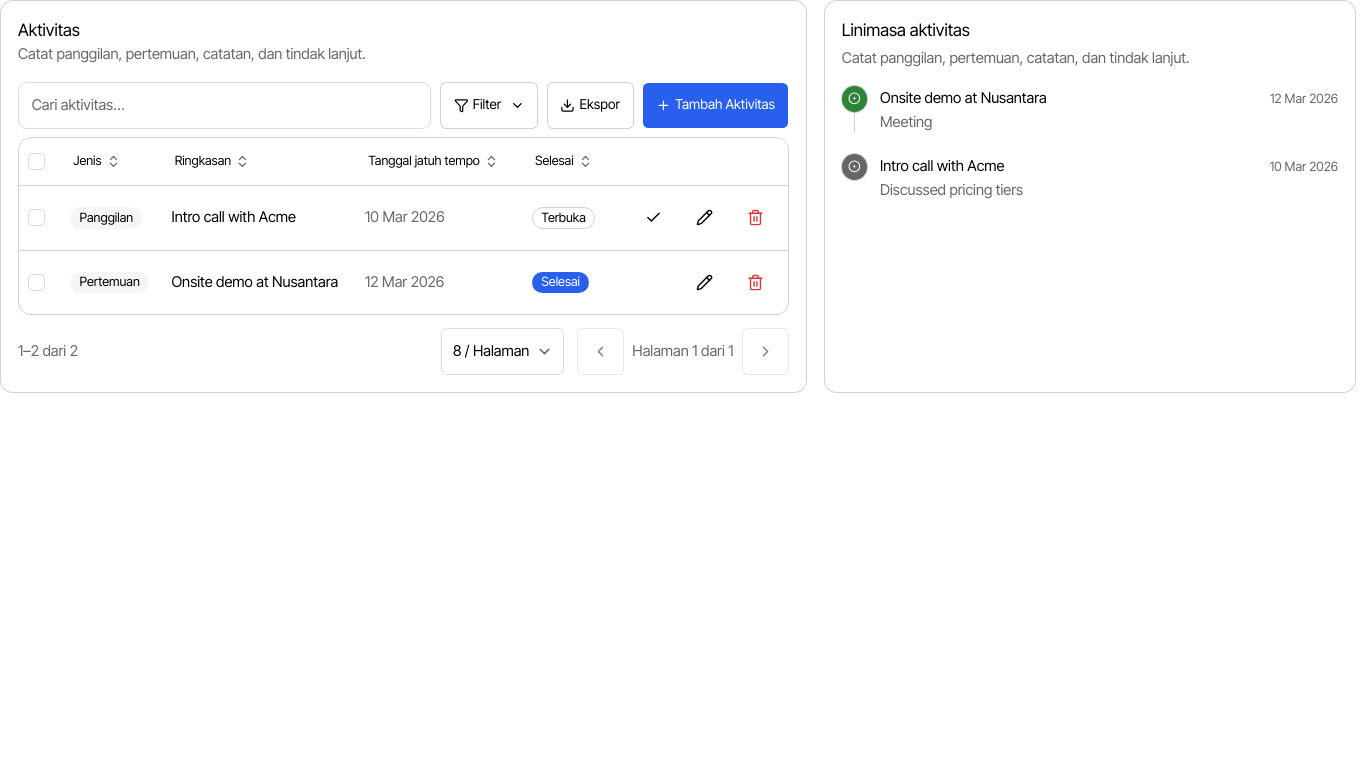
Scenario: ActivitiesSection › opens the activity dialog from the add button
Click the button "Tambah Aktivitas". click: (715, 105)
box: left=642, top=82, right=789, bottom=129
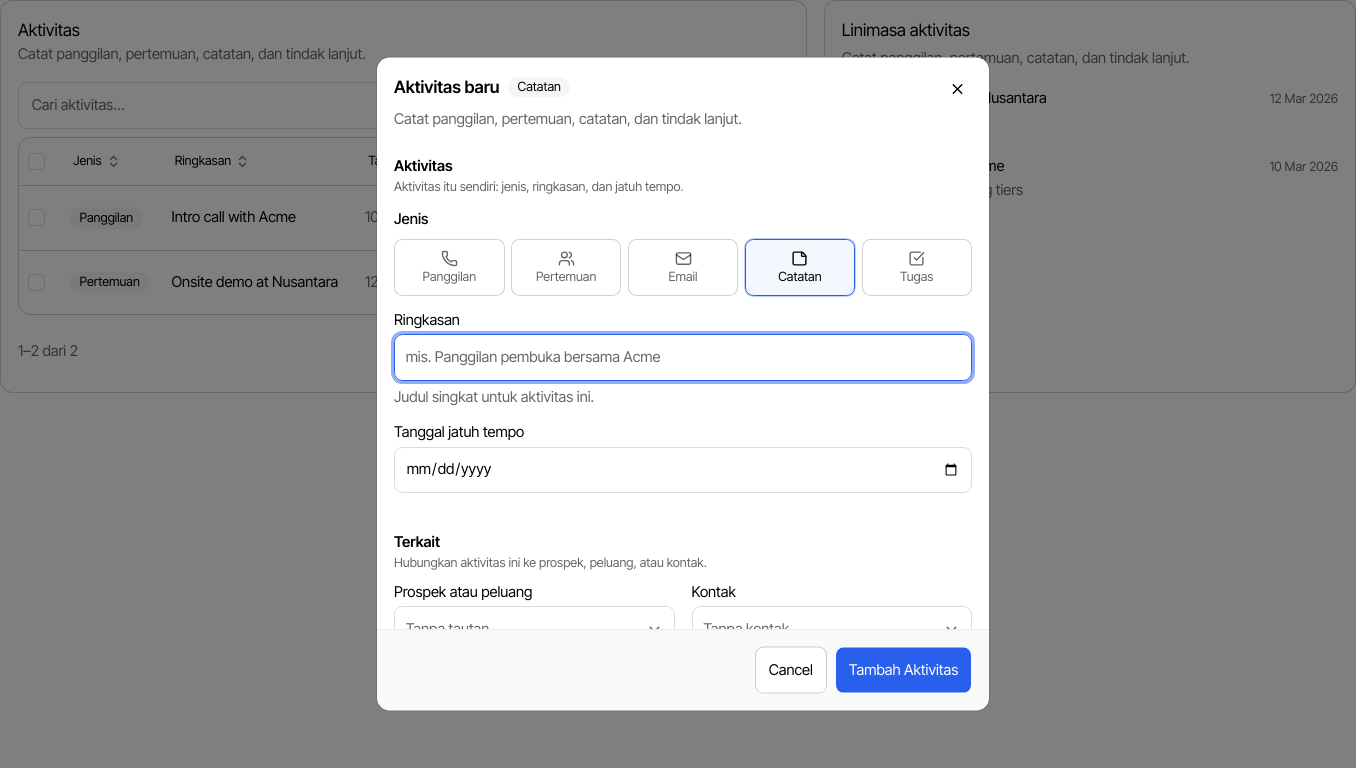
Expected: the dialog is shown, left=377, top=58, right=989, bottom=710
